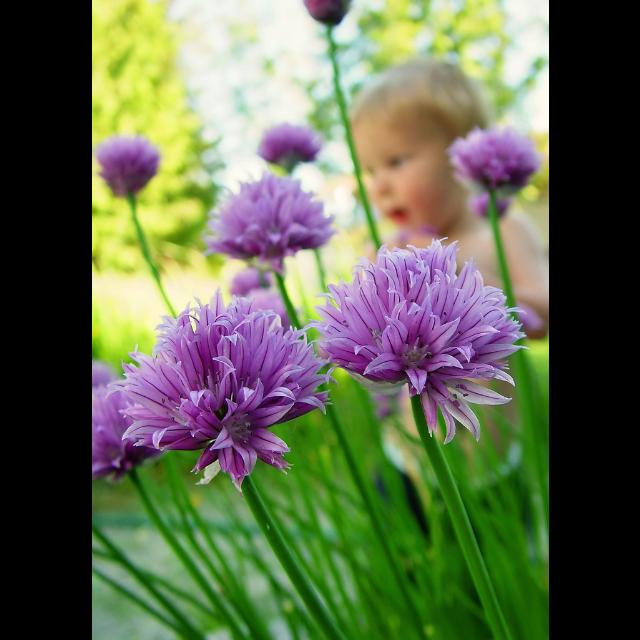Flower: (108, 283, 334, 489), (298, 240, 526, 434), (198, 183, 330, 263), (91, 366, 161, 480), (446, 121, 536, 190), (92, 130, 158, 198), (256, 120, 320, 163), (304, 0, 354, 26), (472, 194, 512, 216)
